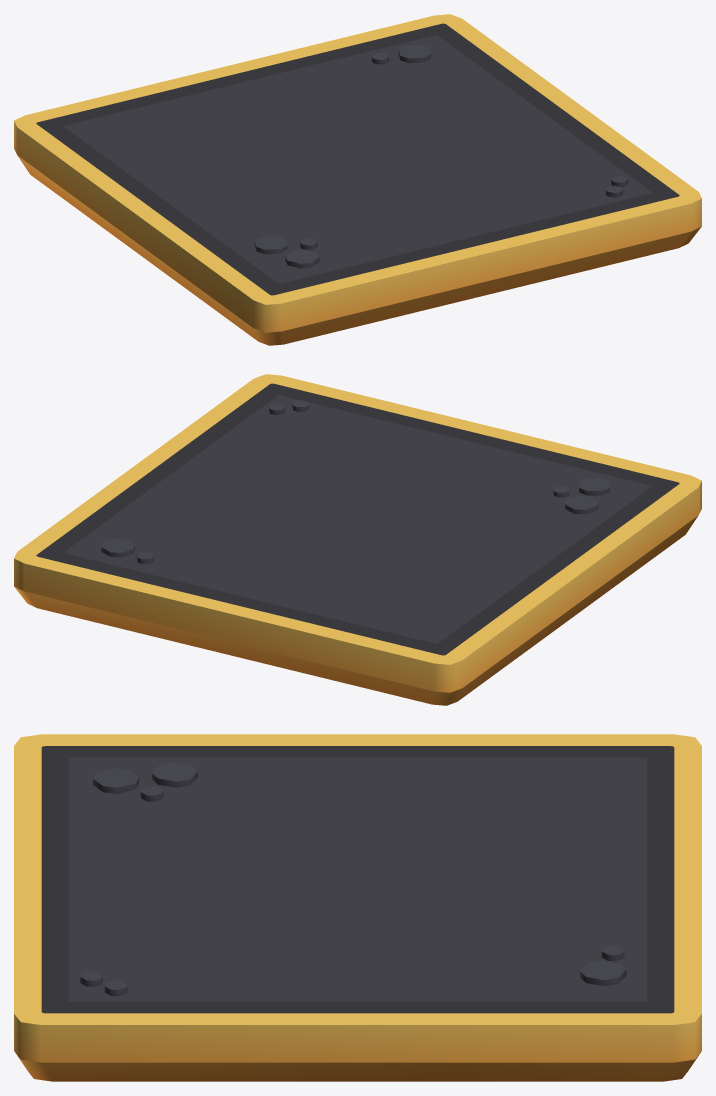
File: platform-large.glb
The picture shows the model from 3 angles, top to bottom: view 1: azimuth 30°, elevation 25°; view 2: azimuth 150°, elevation 25°; view 3: azimuth 270°, elevation 25°; orthographic projection. The views are drawn at different scales.
Visible parts, largest first — view 1: platform-large; view 2: platform-large; view 3: platform-large.
Boxes of the visible parts, x1,y1,x2,y2 form: platform-large: (14, 14, 701, 345); platform-large: (14, 374, 701, 705); platform-large: (14, 734, 701, 1081).
Bounding box in the file's own units: 5 × 0.55 × 5.
1 material, 1 textured.
